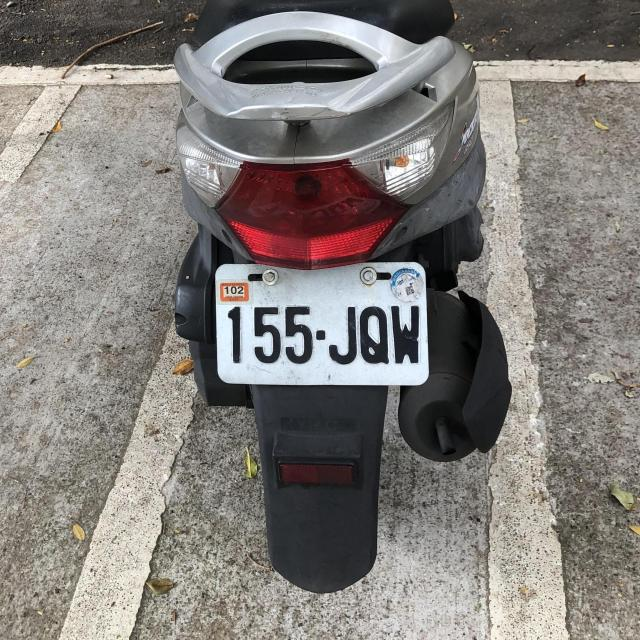W: (214, 258, 431, 386)
